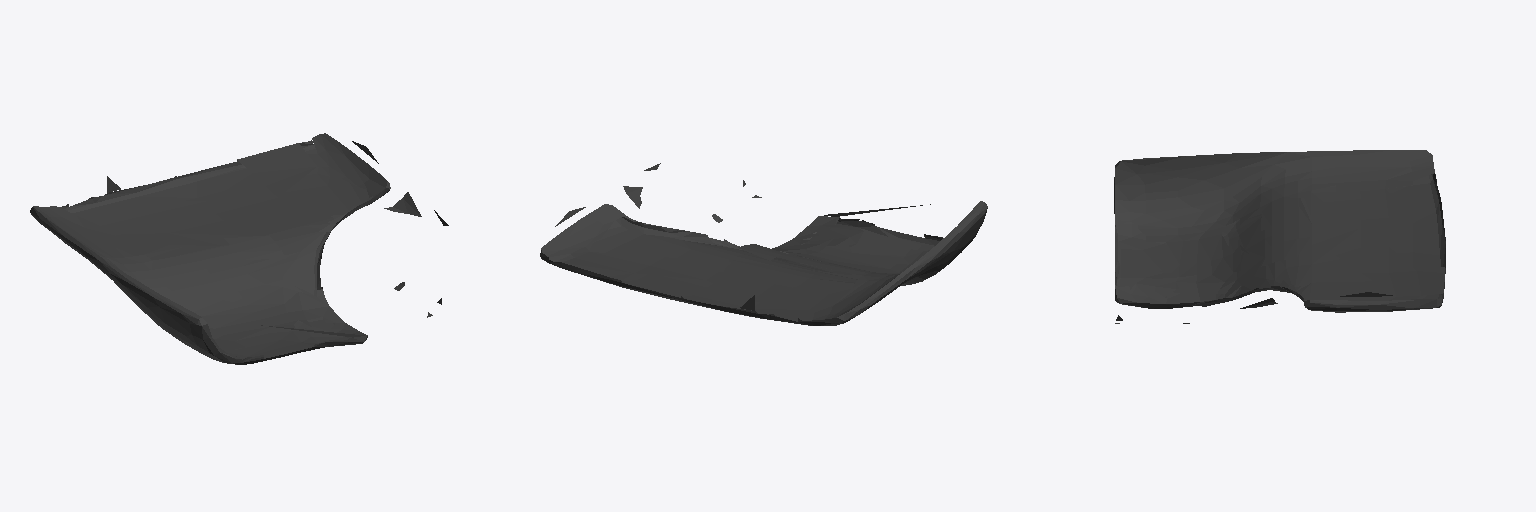
Rendered from inspire_Left_0.obj.
The picture shows the model from 3 angles: view 1: azimuth 30°, elevation 25°; view 2: azimuth 150°, elevation 25°; view 3: azimuth 270°, elevation 25°; orthographic projection.
Size of the model in its own units: 0.0799 by 0.0195 by 0.0742.